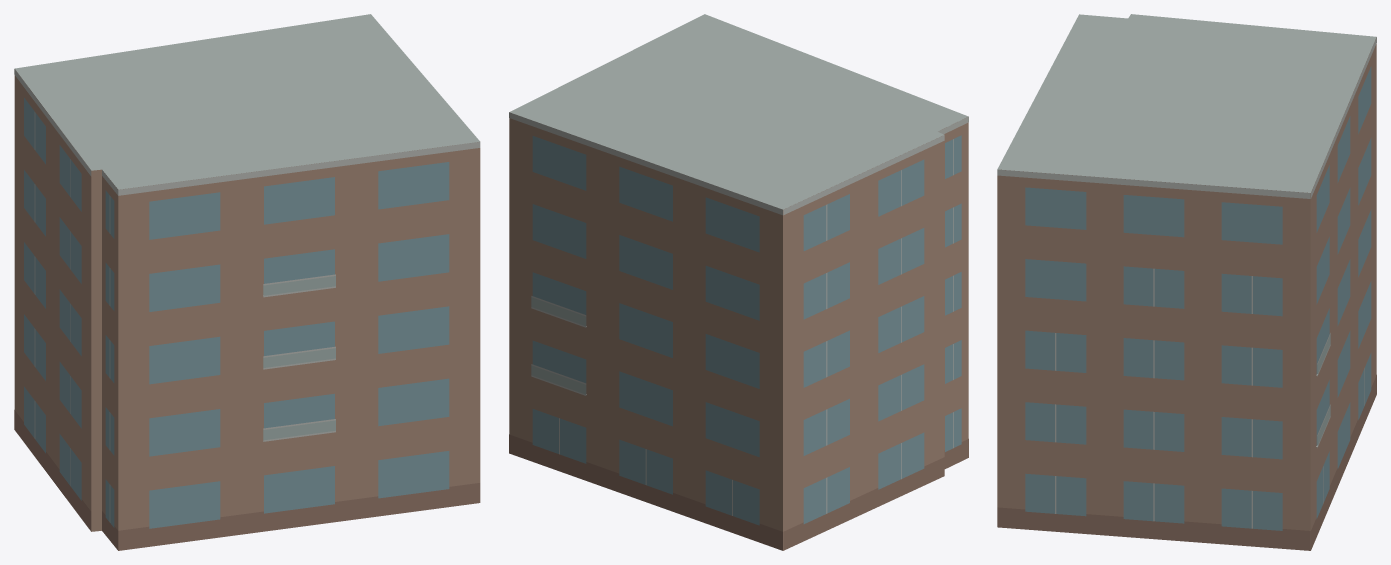
File: survey-upis-33038308.glb
3 views of the same model, side by side, from view 1: azimuth 30°, elevation 25°; view 2: azimuth 150°, elevation 25°; view 3: azimuth 270°, elevation 25° (orthographic). The views are drawn at different scales.
Visible parts, largest first — view 1: survey-upis-33038308.tmp; view 2: survey-upis-33038308.tmp; view 3: survey-upis-33038308.tmp.
Part boxes in pixels (box(x1,y1,x2,y2)): survey-upis-33038308.tmp: box(14, 14, 480, 550); survey-upis-33038308.tmp: box(509, 14, 968, 550); survey-upis-33038308.tmp: box(997, 14, 1376, 550).
Bounding box in the file's own units: 15.46 × 14.4 × 13.85.
